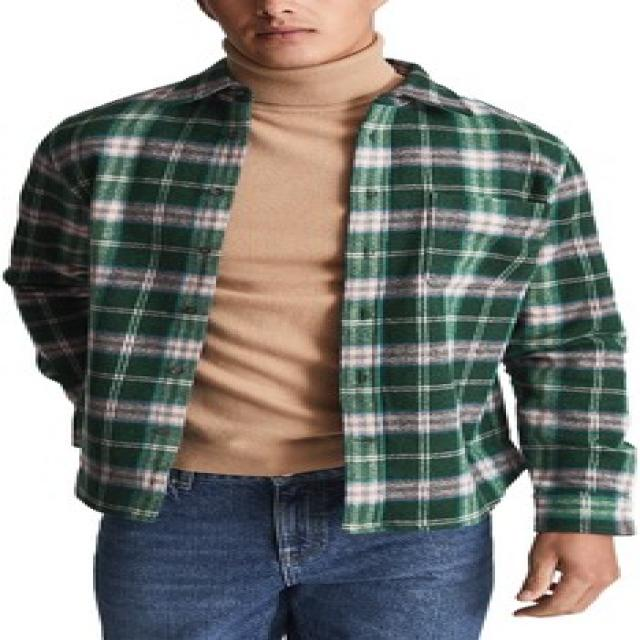plaid: (0, 70, 640, 568)
